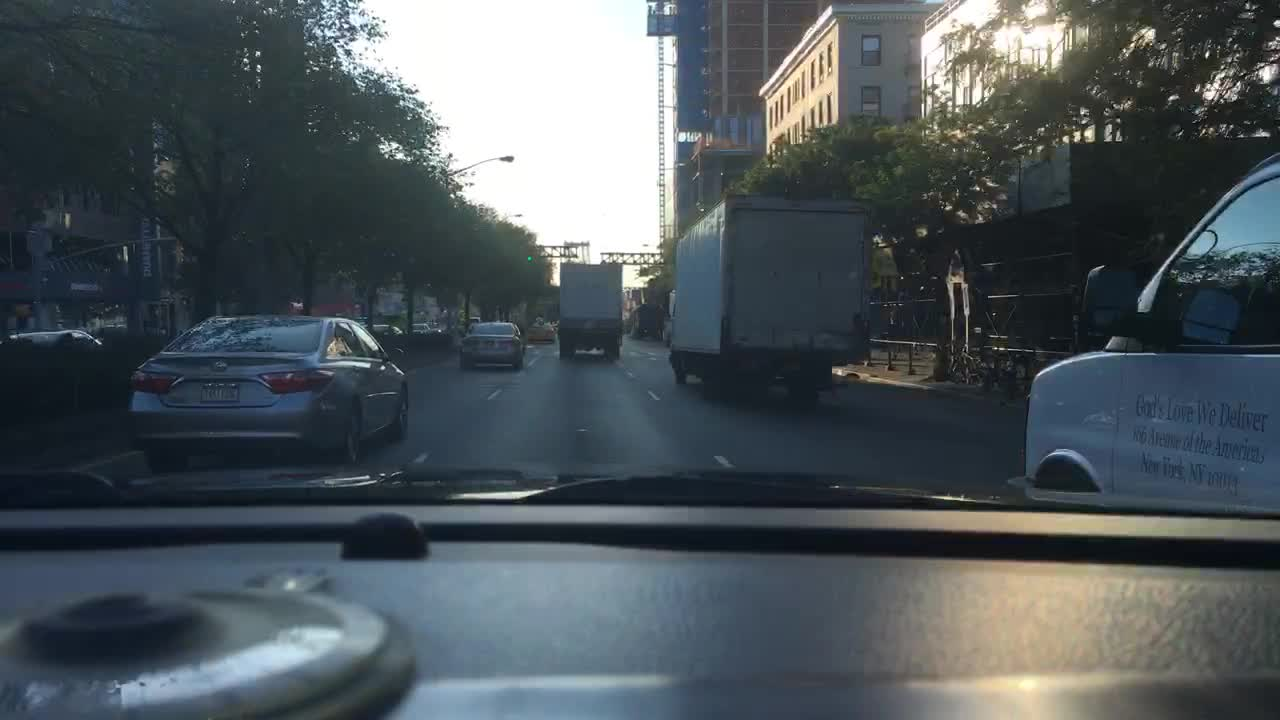bike: (965, 347, 1006, 381), (953, 347, 986, 383), (976, 348, 1009, 377), (995, 349, 1027, 377)
car: (1022, 160, 1266, 509), (122, 310, 410, 467), (457, 323, 525, 372), (7, 329, 56, 346), (52, 330, 99, 347), (526, 319, 558, 343), (361, 324, 406, 337), (462, 315, 481, 329), (426, 321, 443, 334), (412, 324, 430, 335)
person: (1078, 246, 1143, 340)
traffic light: (526, 247, 532, 262)
truck: (661, 193, 874, 390), (557, 260, 623, 363), (632, 305, 655, 339)
